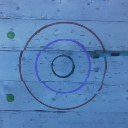Axe Tip: (88, 52, 99, 54)
